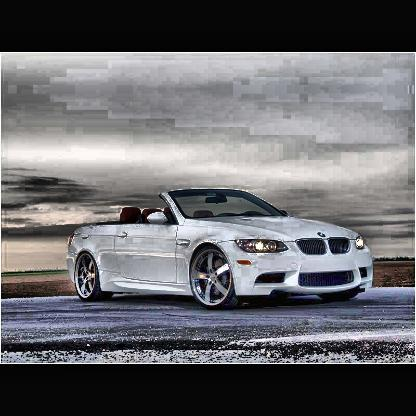BMW M6 Convertible 2010: (68, 187, 380, 312)
